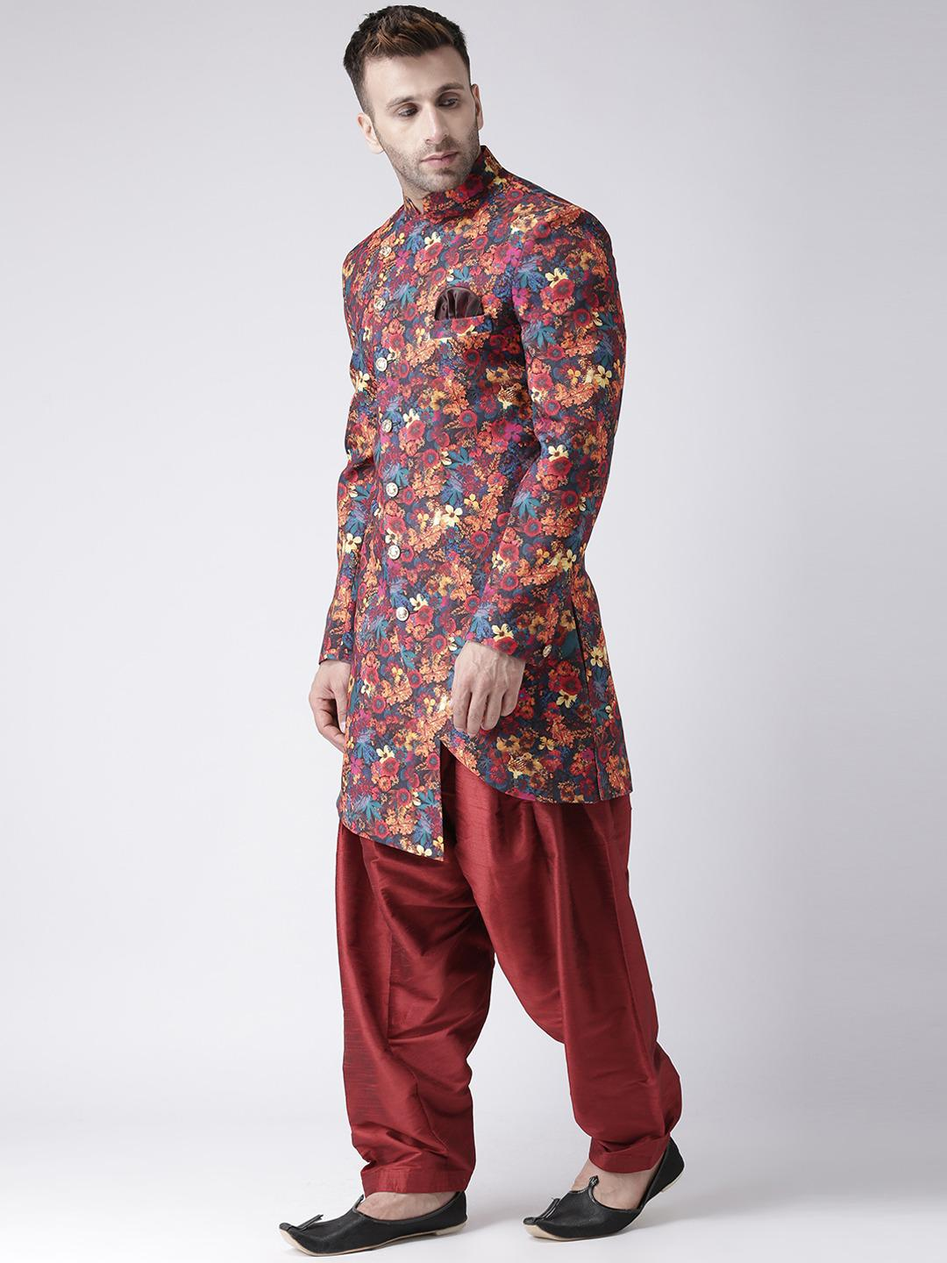Desgin sherwani: (309, 151, 636, 864)
